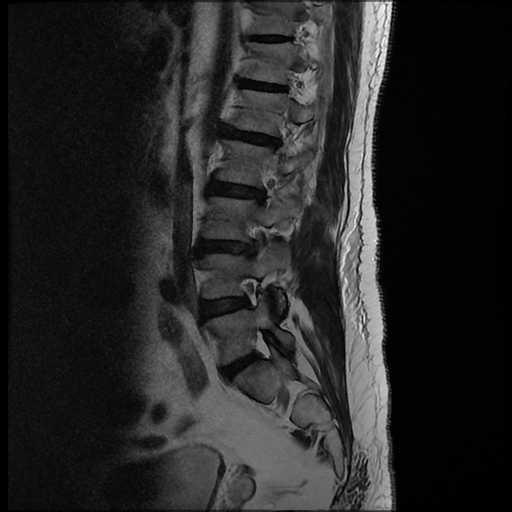RFS0: (232, 266, 271, 316)
